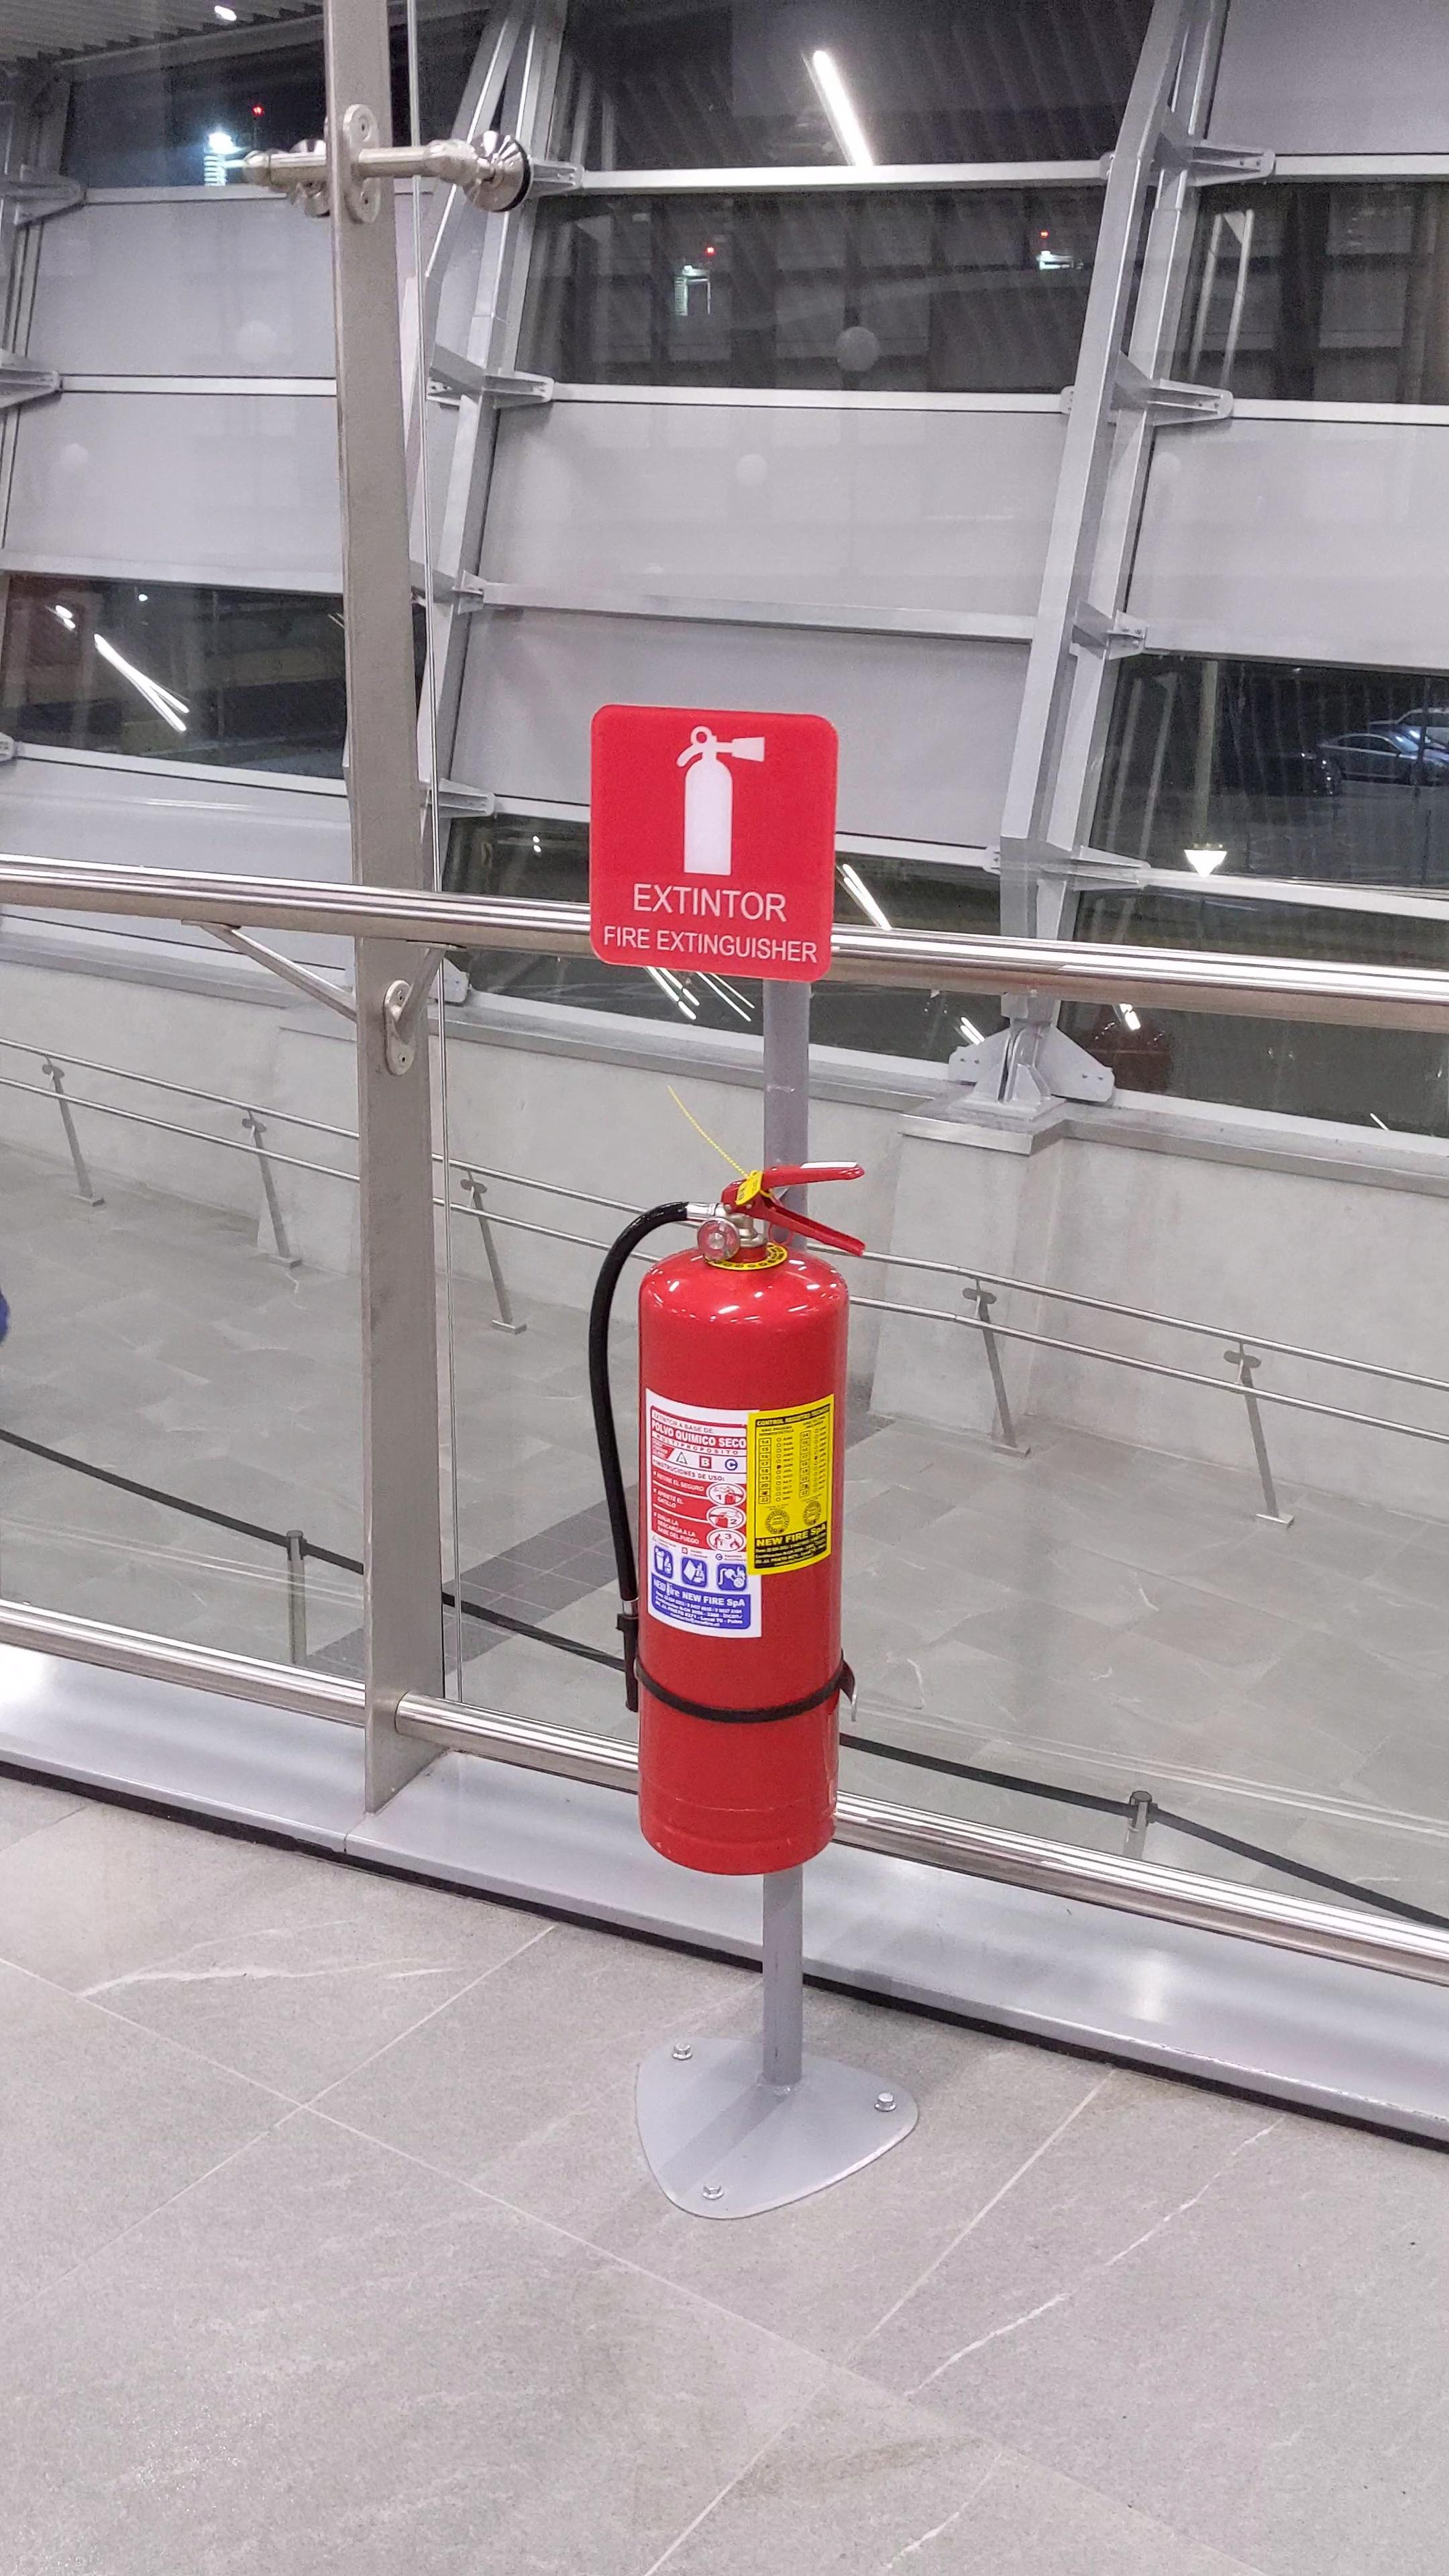extinguisher symbol: (671, 722, 770, 881)
fire-extinguisher: (584, 1152, 874, 1867)
